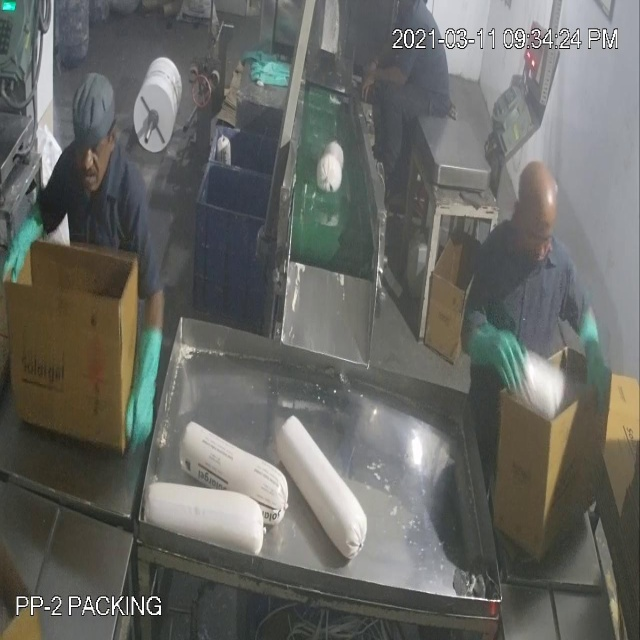Guantes: (109, 300, 166, 457)
Sin_guantes: (357, 56, 416, 111)
